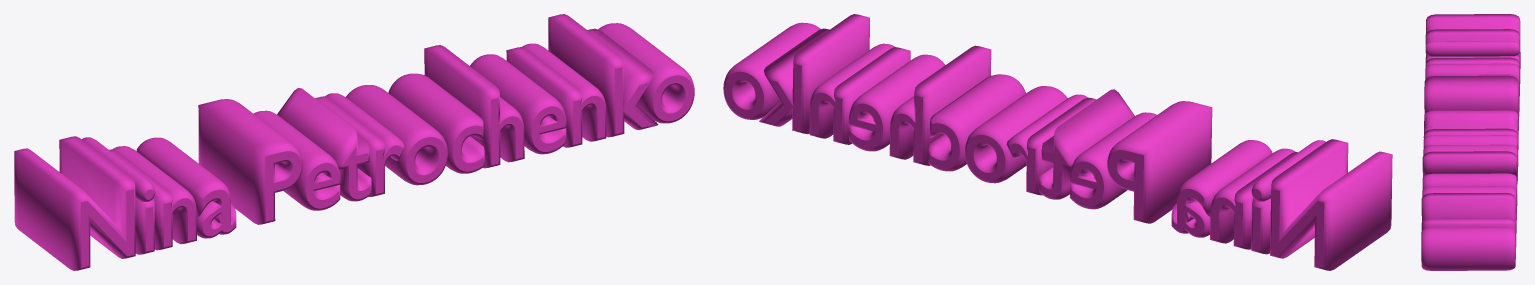
File: lab3.glb
The picture shows the model from 3 angles, left to right: view 1: azimuth 30°, elevation 25°; view 2: azimuth 150°, elevation 25°; view 3: azimuth 270°, elevation 25°; orthographic projection. The views are drawn at different scales.
Visible parts, largest first — view 1: Text; view 2: Text; view 3: Text.
Part boxes in pixels (x1,y1,x2,y2): Text: [14, 14, 694, 270]; Text: [723, 14, 1392, 270]; Text: [1421, 14, 1520, 270].
Size of the model in its own units: 9.11 by 1.18 by 1.79.
